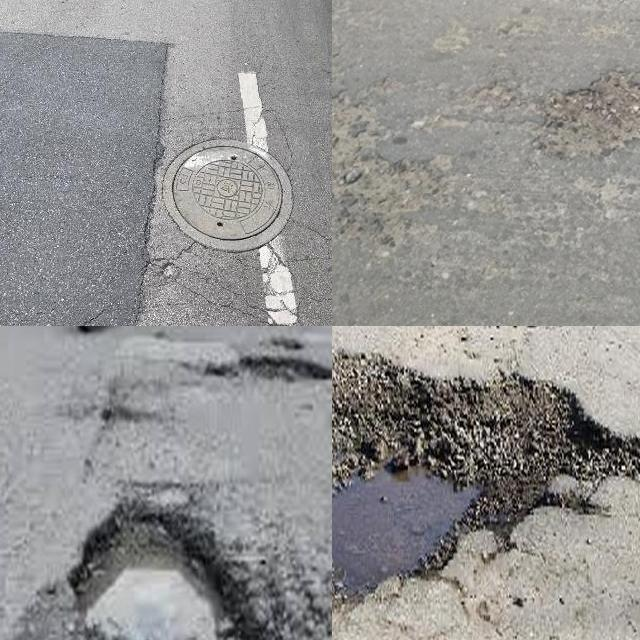Lubang: (332, 351, 640, 606), (66, 509, 251, 640), (537, 82, 640, 155), (233, 354, 332, 383)
Sambungan: (0, 35, 164, 326)
